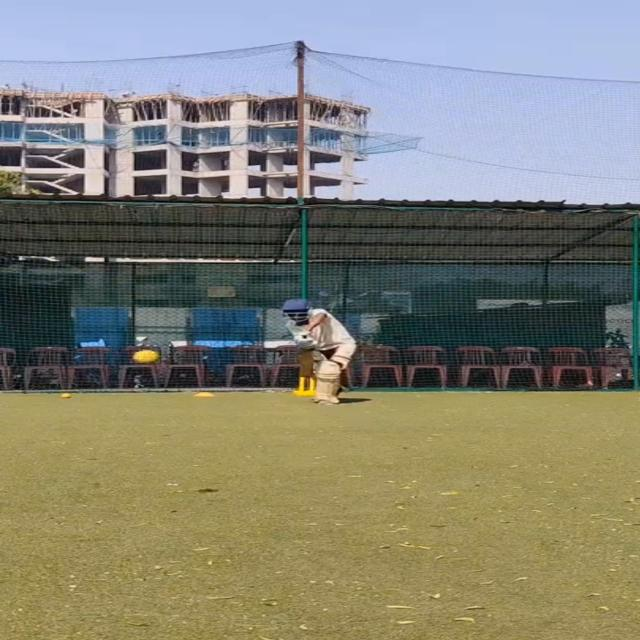ball: (128, 348, 163, 367)
